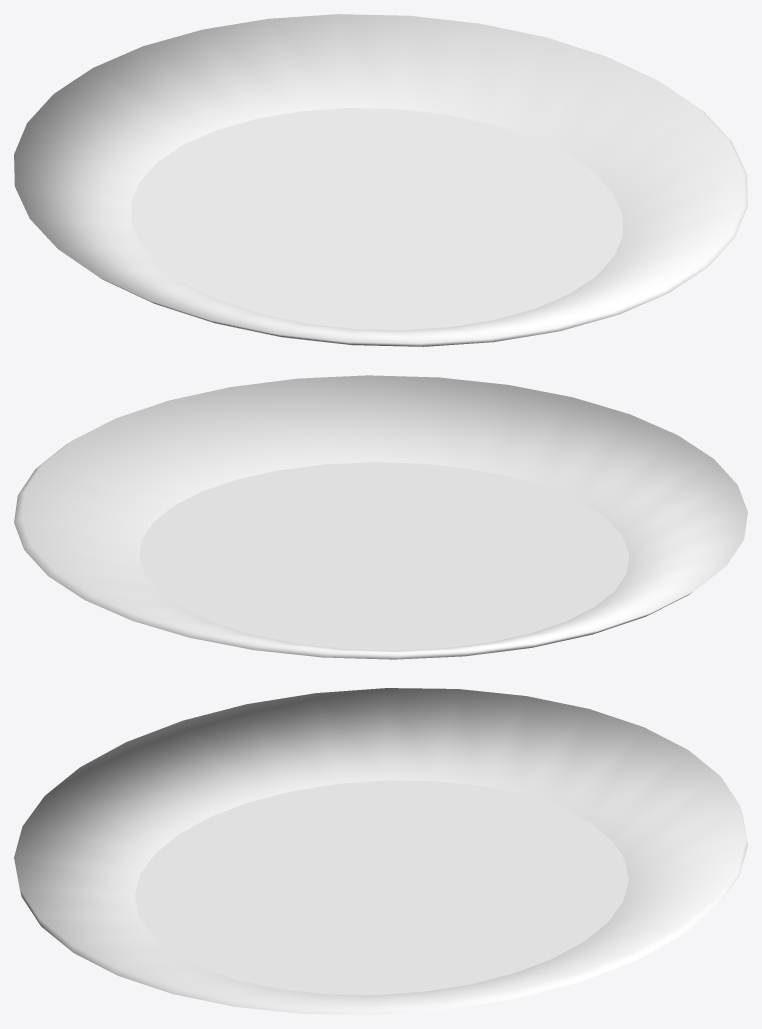
The model's file is teller_firsttry.fbx.
3 renders of one model, top to bottom at view 1: azimuth 30°, elevation 25°; view 2: azimuth 150°, elevation 25°; view 3: azimuth 270°, elevation 25°, orthographic.
Parts seen in each view (by area): view 1: Circle_004; view 2: Circle_004; view 3: Circle_004.
Part boxes in pixels (x1,y1,x2,y2): Circle_004: [14, 14, 747, 346]; Circle_004: [14, 375, 747, 659]; Circle_004: [14, 688, 747, 1014].
Size of the model in its own units: 2.99 by 0.2899 by 2.97.
